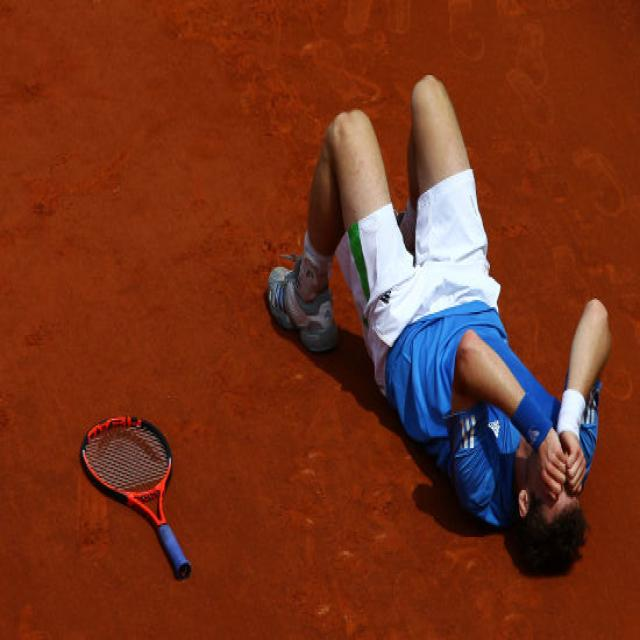down: (255, 70, 614, 568)
